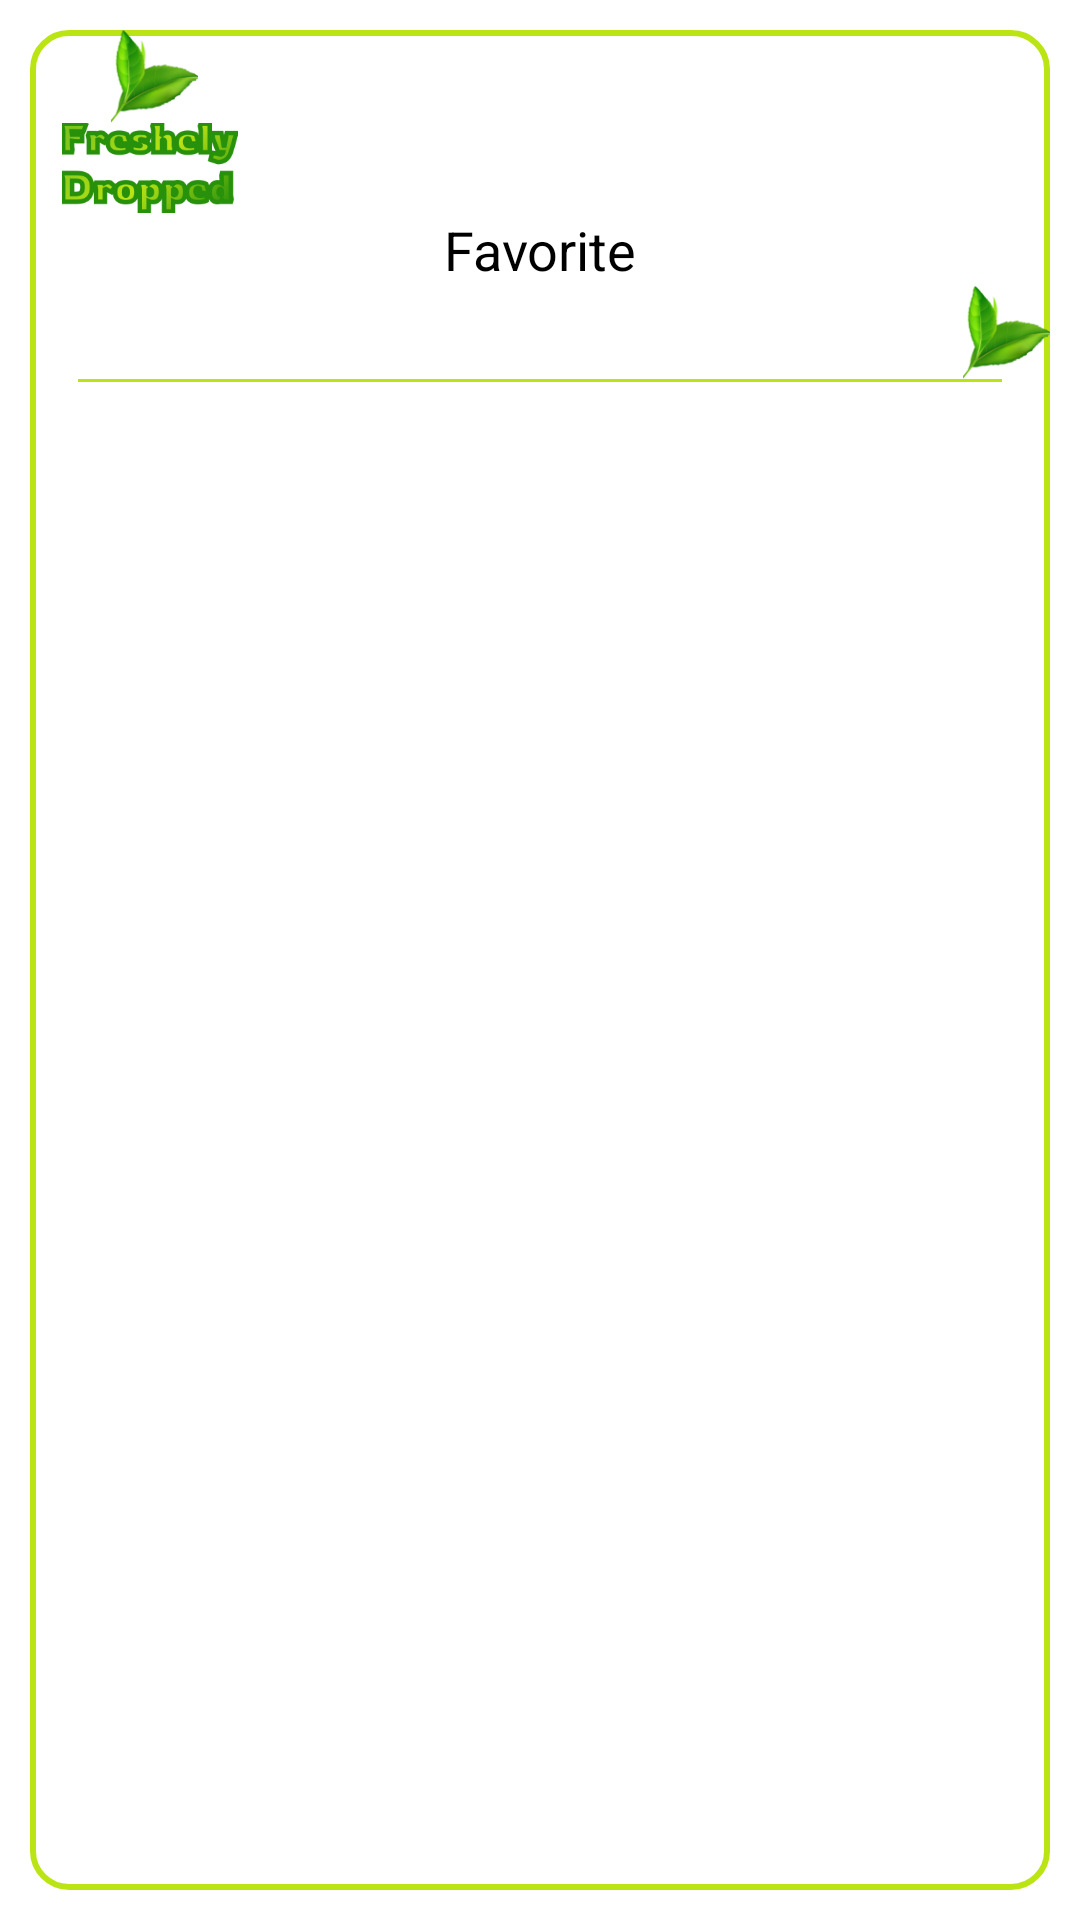

Named icons in this screenshot (1080x1920) and their centers, point (x, y):
home leaf: point (154, 76), point (1006, 332)
